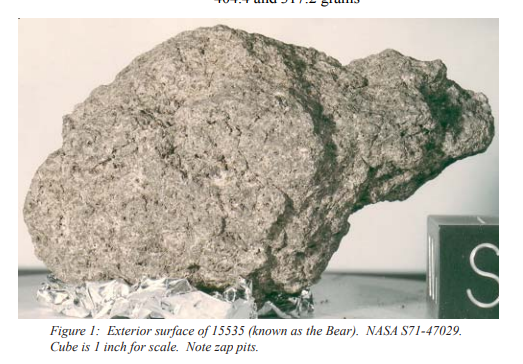Basalt: (28, 44, 354, 291), (128, 48, 483, 200)
